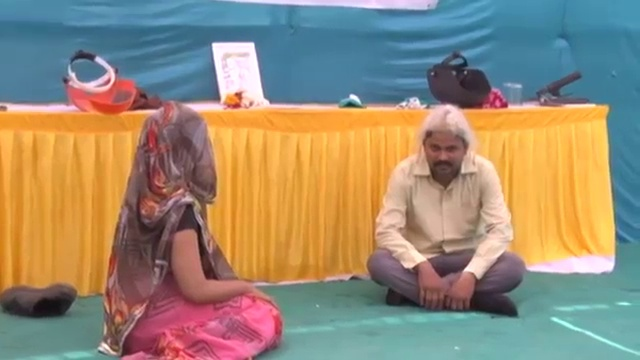helmet_off: (134, 101, 217, 202), (418, 107, 470, 178)
person: (99, 100, 285, 360), (367, 105, 529, 319)
